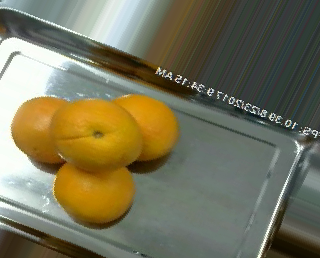Orange: (50, 98, 142, 171), (54, 159, 136, 223), (109, 93, 179, 162), (10, 95, 79, 164)
